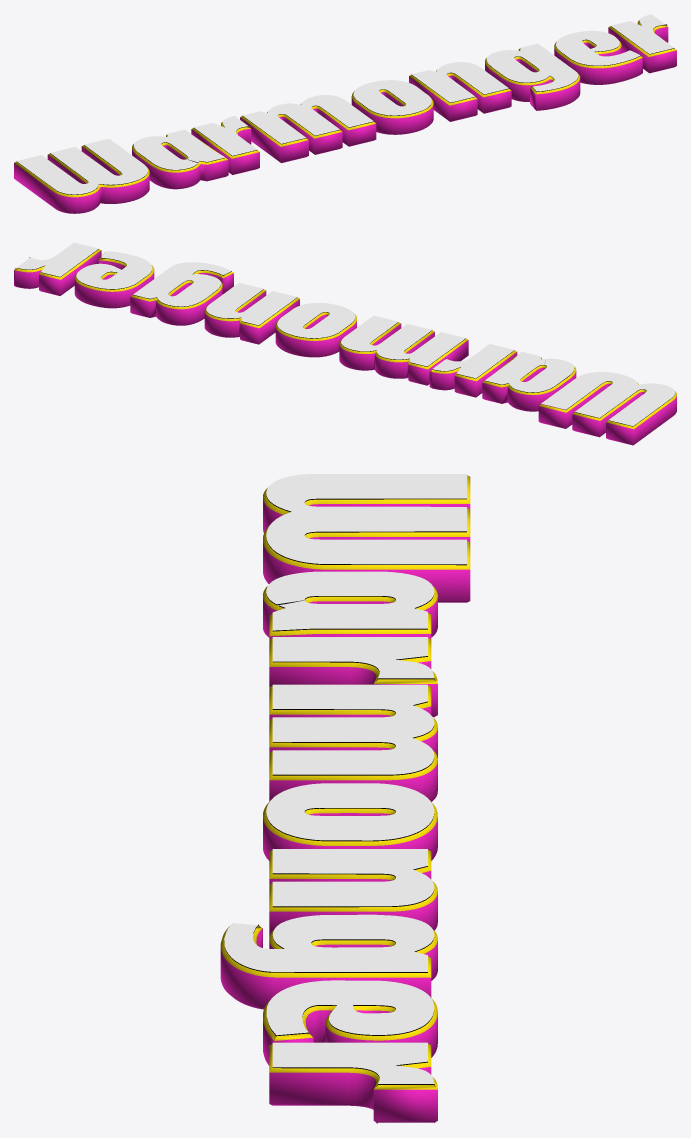
Rendered from war.glb.
3 renders of one model, top to bottom at view 1: azimuth 30°, elevation 25°; view 2: azimuth 150°, elevation 25°; view 3: azimuth 270°, elevation 25°, orthographic. The views are drawn at different scales.
Visible parts, largest first — view 1: Text; view 2: Text; view 3: Text.
Part boxes in pixels (x1,y1,x2,y2): Text: [14, 14, 676, 213]; Text: [14, 242, 676, 445]; Text: [220, 474, 470, 1123].
Size of the model in its own units: 4.2 by 0.1229 by 0.7224.
